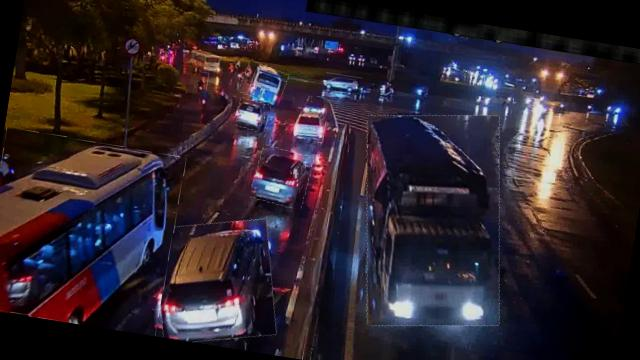Bike: (197, 72, 209, 93)
Bus: (0, 126, 185, 335), (239, 62, 288, 105), (193, 53, 225, 73)
Car: (144, 208, 286, 354), (250, 145, 314, 209), (234, 97, 271, 132), (293, 107, 328, 143), (324, 72, 363, 95)
Truck: (343, 101, 523, 340)
